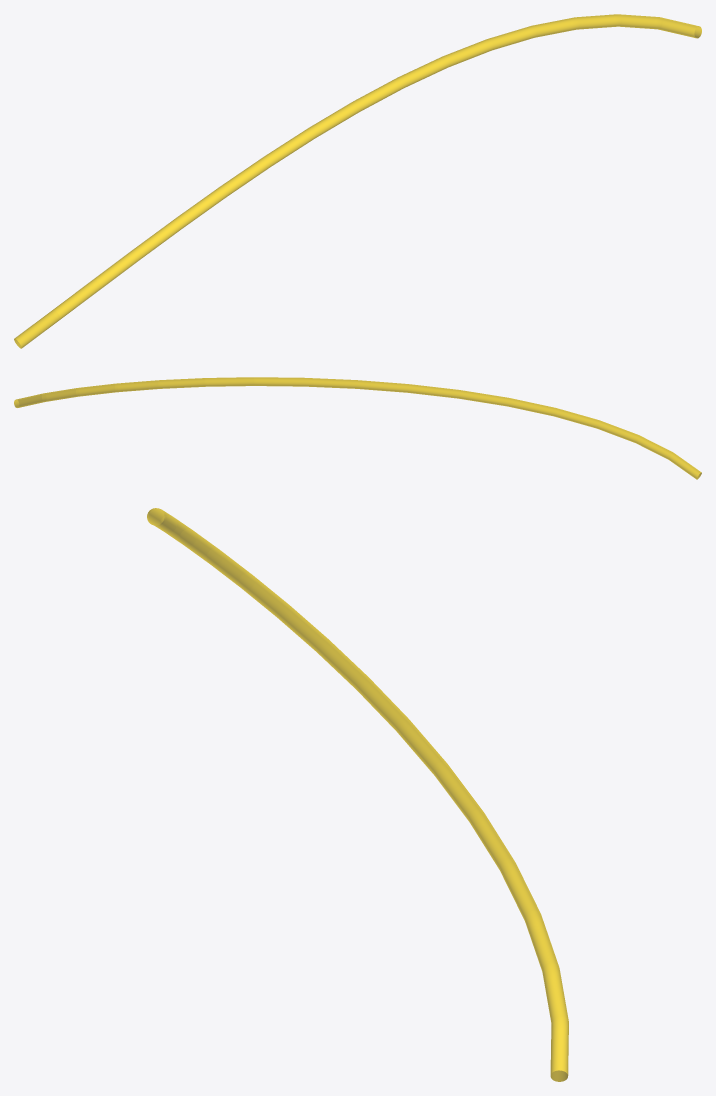
Rendered from Event_84804159_track_58.fbx.
The picture shows the model from 3 angles, top to bottom: view 1: azimuth 30°, elevation 25°; view 2: azimuth 150°, elevation 25°; view 3: azimuth 270°, elevation 25°; orthographic projection. The views are drawn at different scales.
Parts seen in each view (by area): view 1: Model; view 2: Model; view 3: Model.
Part boxes in pixels (left/top/right/bottom): Model: left=14, top=14, right=701, bottom=348; Model: left=14, top=377, right=701, bottom=479; Model: left=147, top=508, right=568, bottom=1081.
Size of the model in its own units: 3.06 by 0.3311 by 0.9572.
